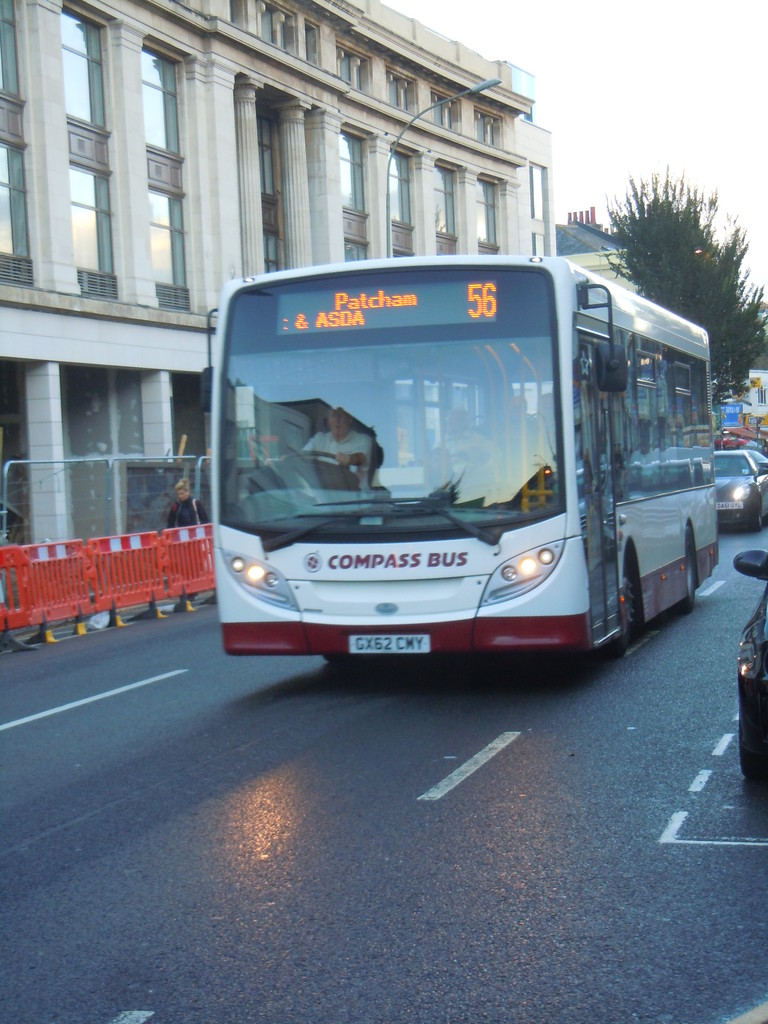Bus: (204, 245, 717, 672)
